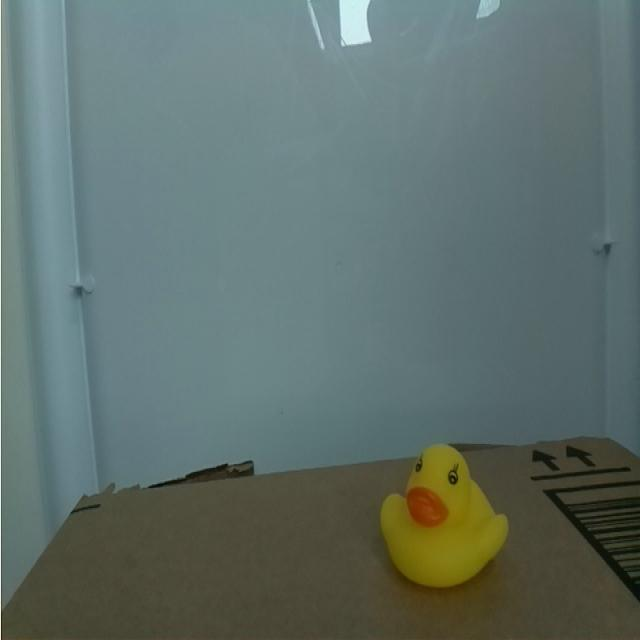duck_regular: (348, 419, 518, 602)
